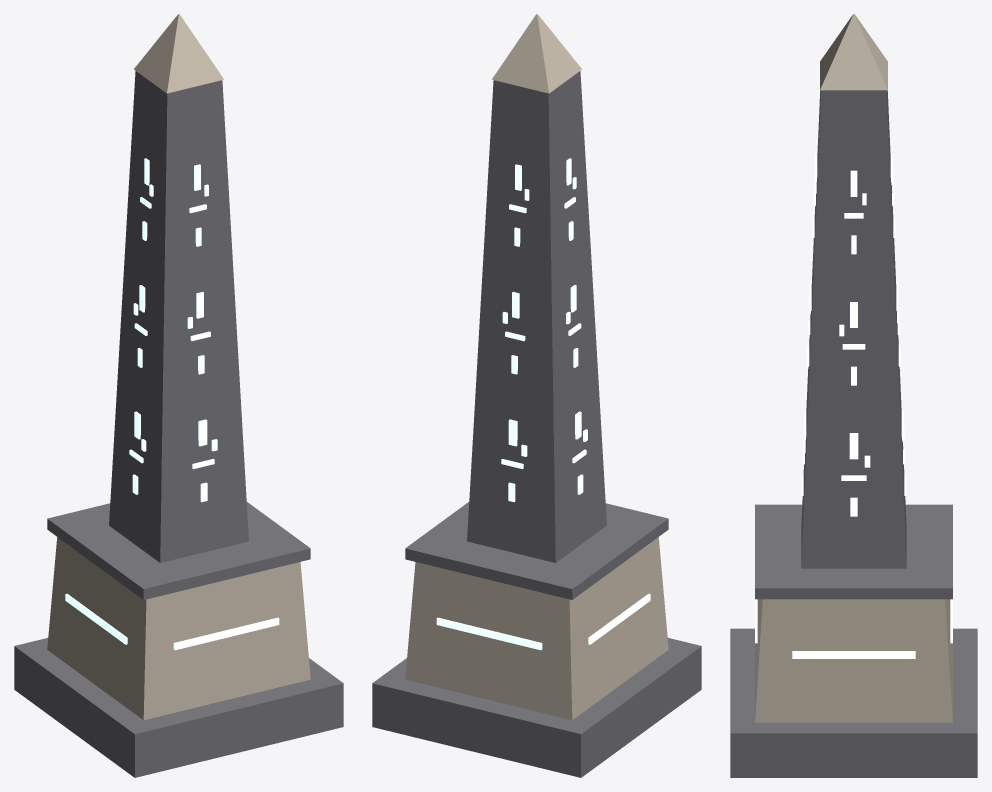
Rendered from RuneObelisk.glb.
3 renders of one model, left to right at view 1: azimuth 30°, elevation 25°; view 2: azimuth 150°, elevation 25°; view 3: azimuth 270°, elevation 25°, orthographic. The views are drawn at different scales.
Visible parts, largest first — view 1: RuneObelisk_tbox.001, RuneObelisk_tbox, RuneObelisk_cube, RuneObelisk_cube.001, RuneObelisk_tbox.002, RuneObelisk_cube.050, RuneObelisk_cube.053; view 2: RuneObelisk_tbox.001, RuneObelisk_tbox, RuneObelisk_cube, RuneObelisk_cube.001, RuneObelisk_tbox.002, RuneObelisk_cube.052, RuneObelisk_cube.053; view 3: RuneObelisk_tbox.001, RuneObelisk_tbox, RuneObelisk_cube, RuneObelisk_cube.001, RuneObelisk_tbox.002, RuneObelisk_cube.051.
Part boxes in pixels (left/top/right/bottom): RuneObelisk_tbox.001: left=109, top=71, right=248, bottom=562; RuneObelisk_tbox: left=47, top=537, right=310, bottom=720; RuneObelisk_cube: left=14, top=638, right=343, bottom=777; RuneObelisk_cube.001: left=47, top=502, right=310, bottom=599; RuneObelisk_tbox.002: left=134, top=14, right=223, bottom=93; RuneObelisk_cube.050: left=173, top=617, right=279, bottom=650; RuneObelisk_cube.053: left=65, top=593, right=127, bottom=644; RuneObelisk_tbox.001: left=467, top=71, right=606, bottom=562; RuneObelisk_tbox: left=405, top=537, right=668, bottom=720; RuneObelisk_cube: left=372, top=638, right=701, bottom=777; RuneObelisk_cube.001: left=405, top=502, right=668, bottom=599; RuneObelisk_tbox.002: left=492, top=14, right=581, bottom=93; RuneObelisk_cube.052: left=436, top=617, right=542, bottom=650; RuneObelisk_cube.053: left=588, top=593, right=650, bottom=644; RuneObelisk_tbox.001: left=801, top=90, right=906, bottom=568; RuneObelisk_tbox: left=755, top=599, right=952, bottom=722; RuneObelisk_cube: left=730, top=628, right=977, bottom=777; RuneObelisk_cube.001: left=755, top=504, right=952, bottom=599; RuneObelisk_tbox.002: left=820, top=14, right=887, bottom=90; RuneObelisk_cube.051: left=792, top=651, right=915, bottom=658.
Bounding box in the file's own units: 2 × 6.35 × 2.
